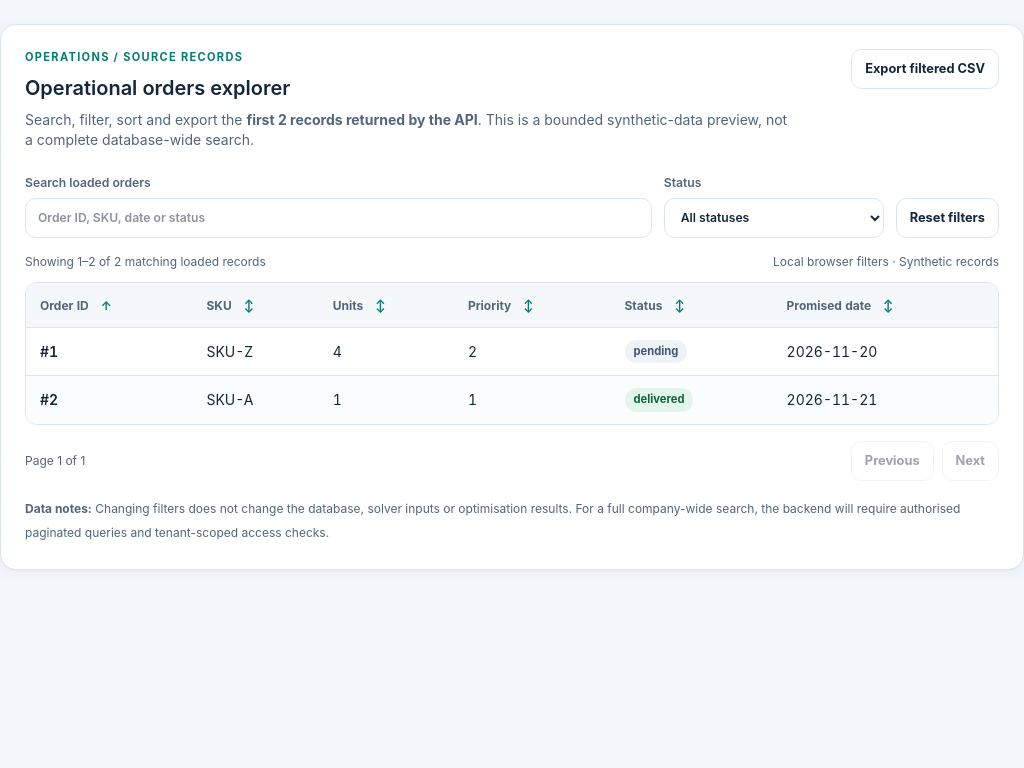
Test case: filters, sorts and paginates the local bounded order preview
Expected: the text "#1" is shown, [26, 327, 192, 376]
Type "SKU-A" into the search field labelled "Search loaded orders" at (338, 218), box [25, 198, 652, 238]
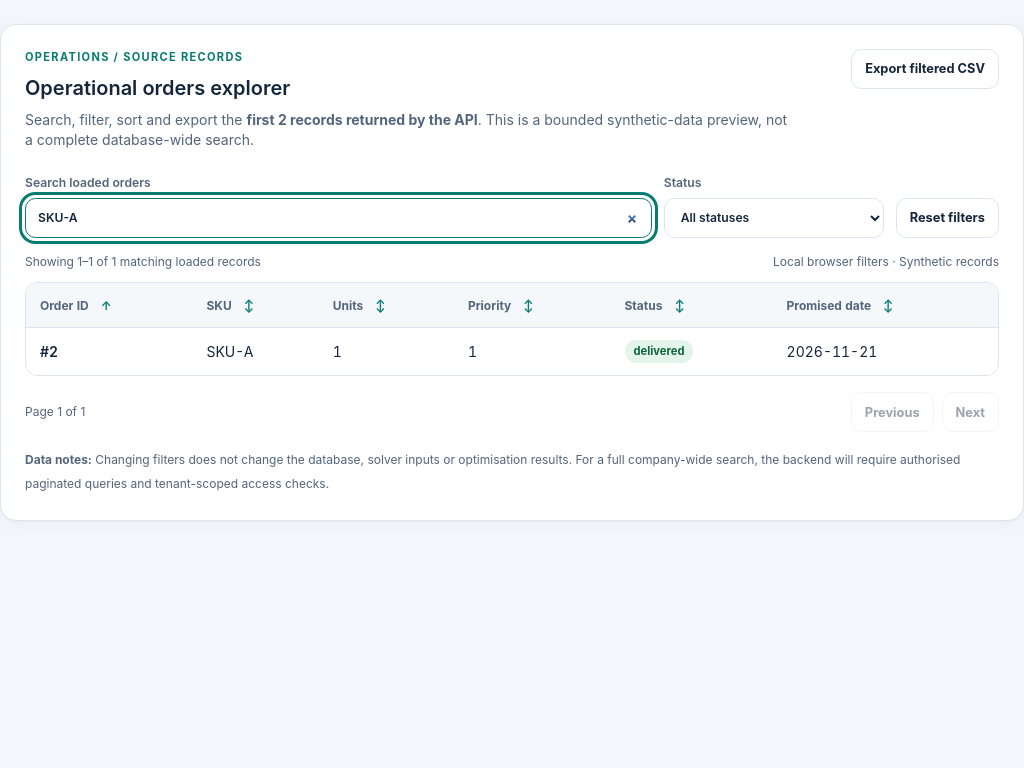
Expected: the text "#2" is shown, [26, 327, 192, 375]
Expected: the text "#1" is gone
Click the button "Reset filters" at (947, 218), box [896, 198, 999, 238]
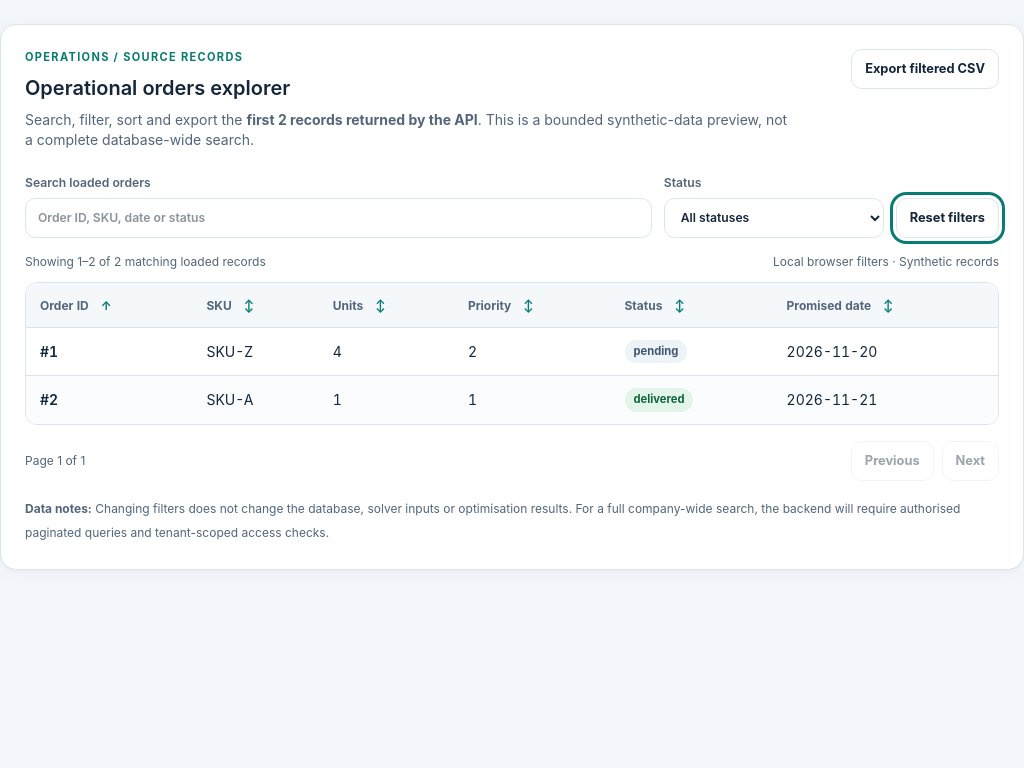
Expected: the text "#1" is shown, [26, 327, 192, 376]
